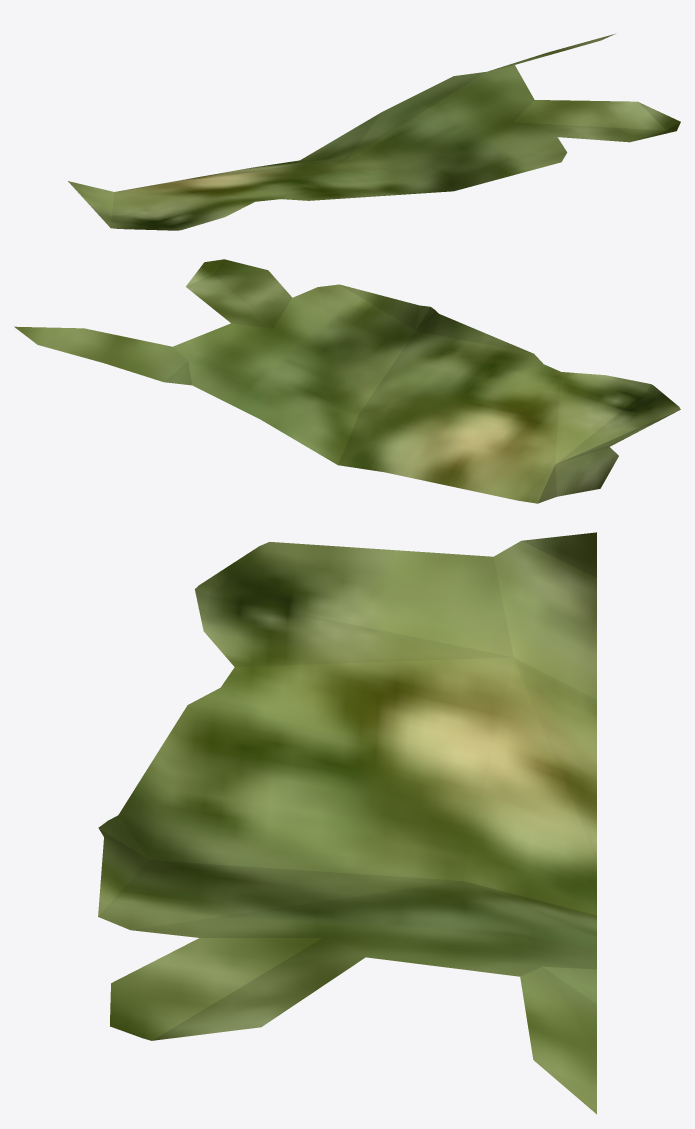
The picture shows the model from 3 angles, top to bottom: view 1: azimuth 30°, elevation 25°; view 2: azimuth 150°, elevation 25°; view 3: azimuth 270°, elevation 25°; orthographic projection. The views are drawn at different scales.
Bounding box in the file's own units: 0.9292 × 0.0887 × 0.3375.
1 material, 1 textured.
